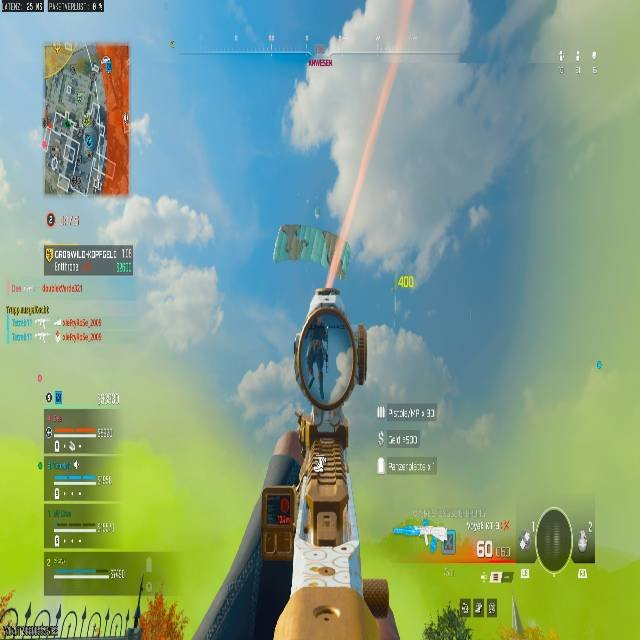head: (148, 194, 198, 254)
player: (100, 193, 224, 356)
